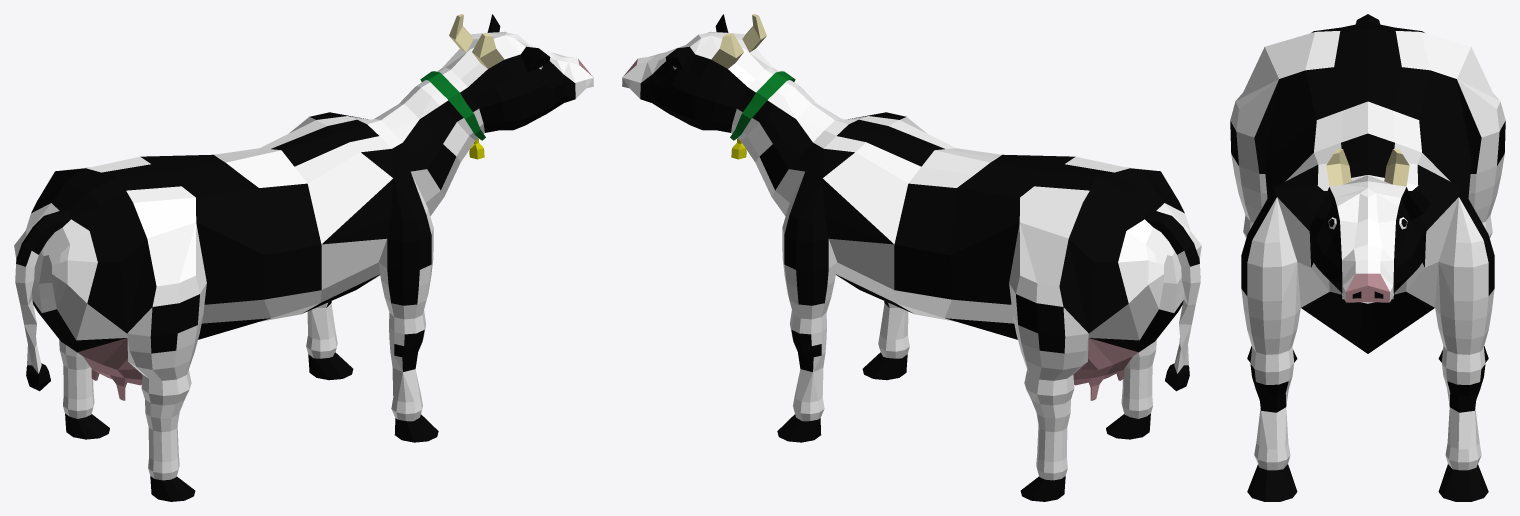
The model's file is Cow.fbx.
3 views of the same model, side by side, from view 1: azimuth 30°, elevation 25°; view 2: azimuth 150°, elevation 25°; view 3: azimuth 270°, elevation 25° (orthographic). The views are drawn at different scales.
Visible parts, largest first — view 1: Sphere; view 2: Sphere; view 3: Sphere.
Boxes of the visible parts, <box> form: Sphere: <box>14,14,593,501</box>; Sphere: <box>622,14,1201,501</box>; Sphere: <box>1230,14,1505,501</box>.
Size of the model in its own units: 5446 by 3229 by 2036.
